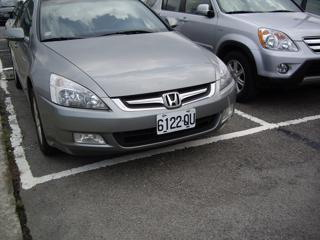plate: (154, 106, 197, 133)
